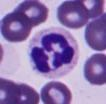N: (28, 27, 79, 77)
